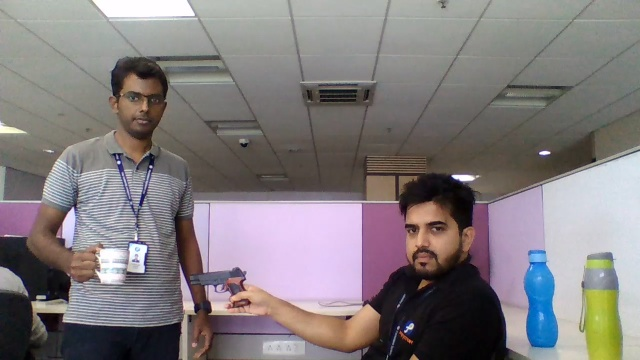gun: (189, 269, 249, 290)
